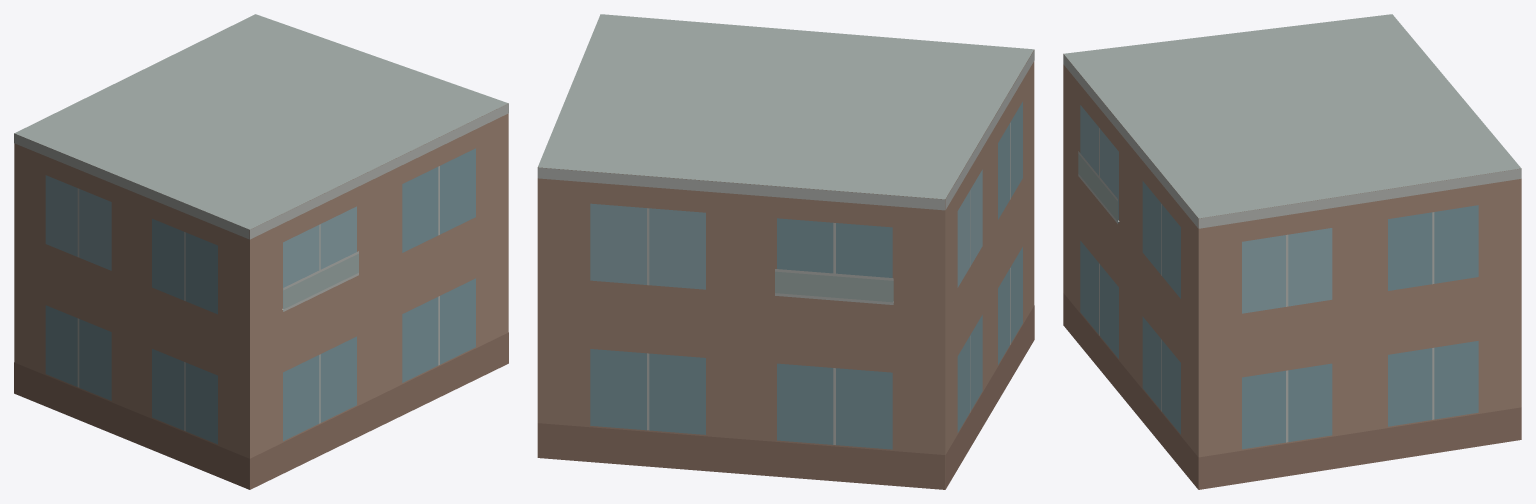
File: survey-upis-32628846.glb
The picture shows the model from 3 angles, left to right: view 1: azimuth 30°, elevation 25°; view 2: azimuth 150°, elevation 25°; view 3: azimuth 270°, elevation 25°; orthographic projection. The views are drawn at different scales.
Visible parts, largest first — view 1: survey-upis-32628846.tmp; view 2: survey-upis-32628846.tmp; view 3: survey-upis-32628846.tmp.
Part boxes in pixels (x1=…): survey-upis-32628846.tmp: x1=14, y1=14, x2=508, y2=489; survey-upis-32628846.tmp: x1=537, y1=14, x2=1034, y2=489; survey-upis-32628846.tmp: x1=1063, y1=14, x2=1521, y2=489.
Bounding box in the file's own units: 10.35 × 6.4 × 9.8.
